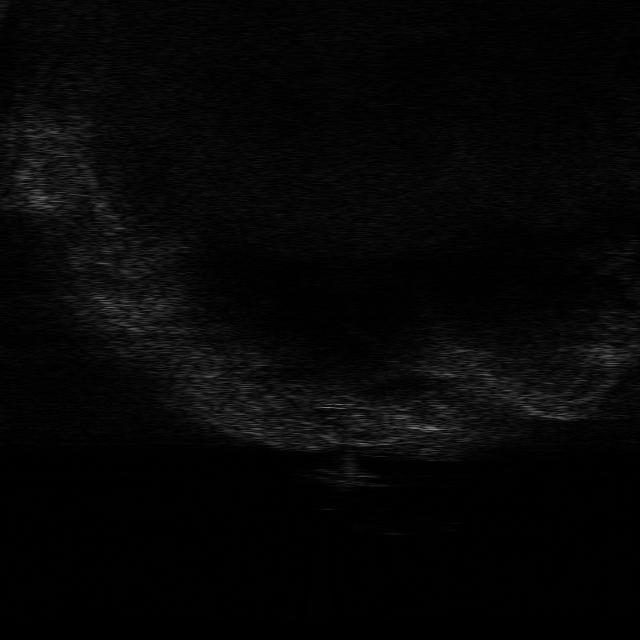plane: (292, 460, 400, 490)
